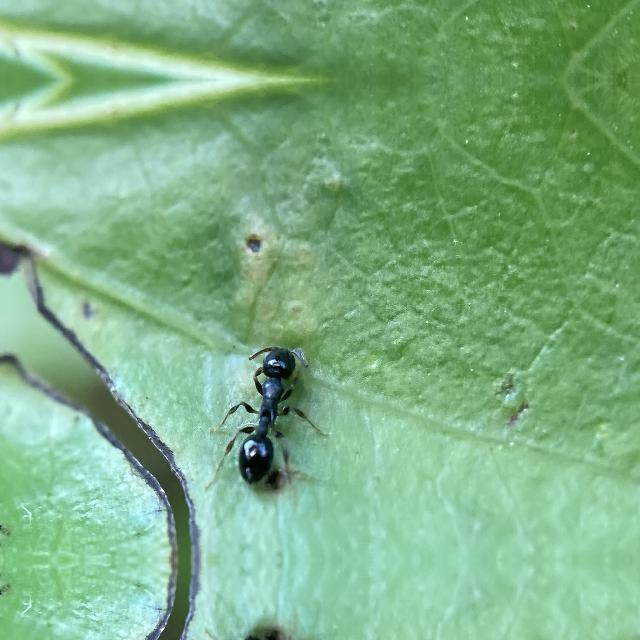Temnothorax: (207, 328, 326, 500)
